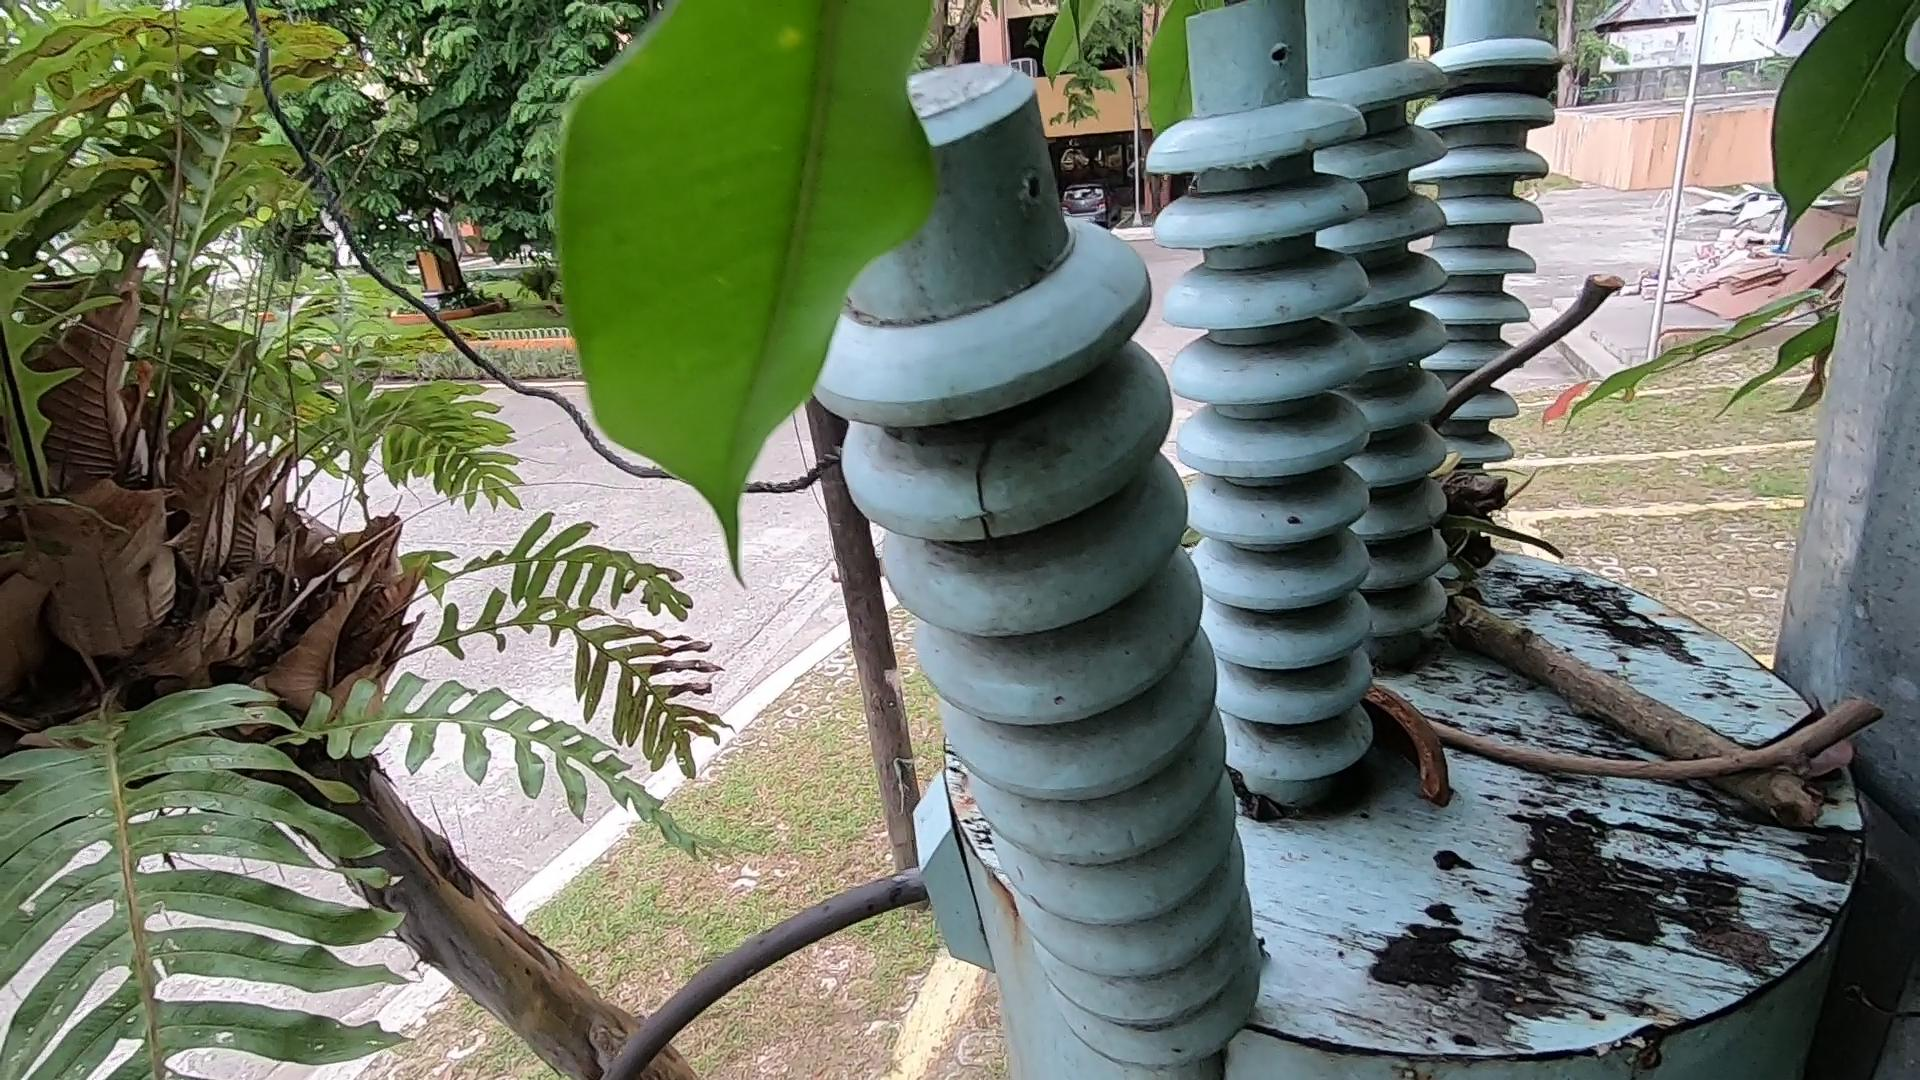branch with leaves: (1422, 398, 1826, 907)
leaf: (1737, 694, 1920, 811)
mahogany fruit: (1366, 638, 1484, 833)
tree branch: (1383, 204, 1691, 473), (1393, 692, 1898, 798)
